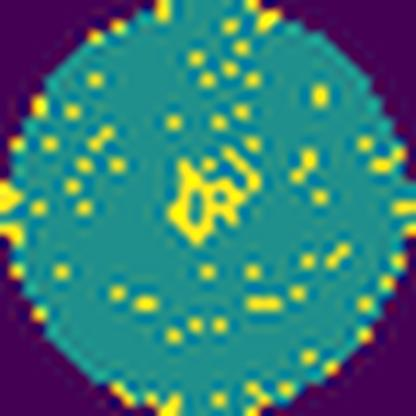Center: (167, 146, 264, 245)
